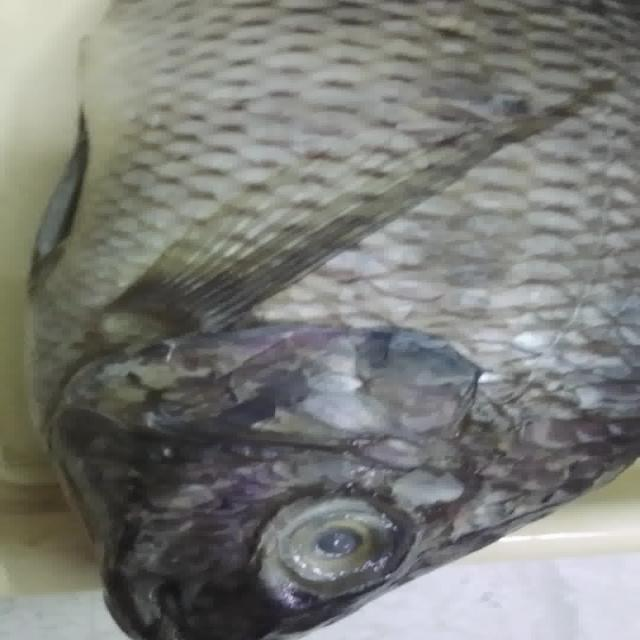Non-Fresh: (81, 239, 604, 465), (275, 492, 401, 584)
